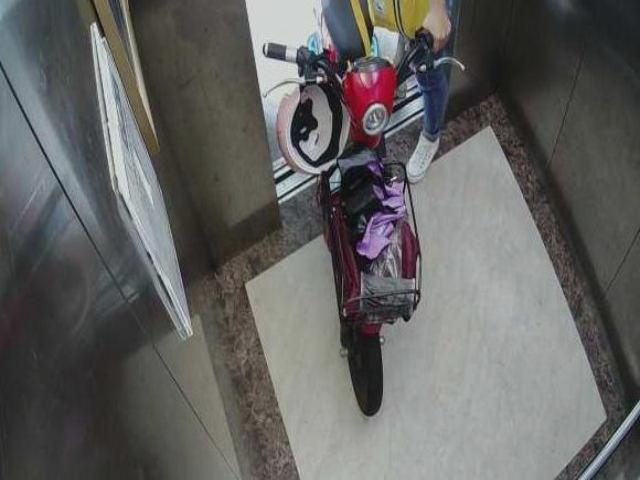emotor: (271, 9, 446, 408)
